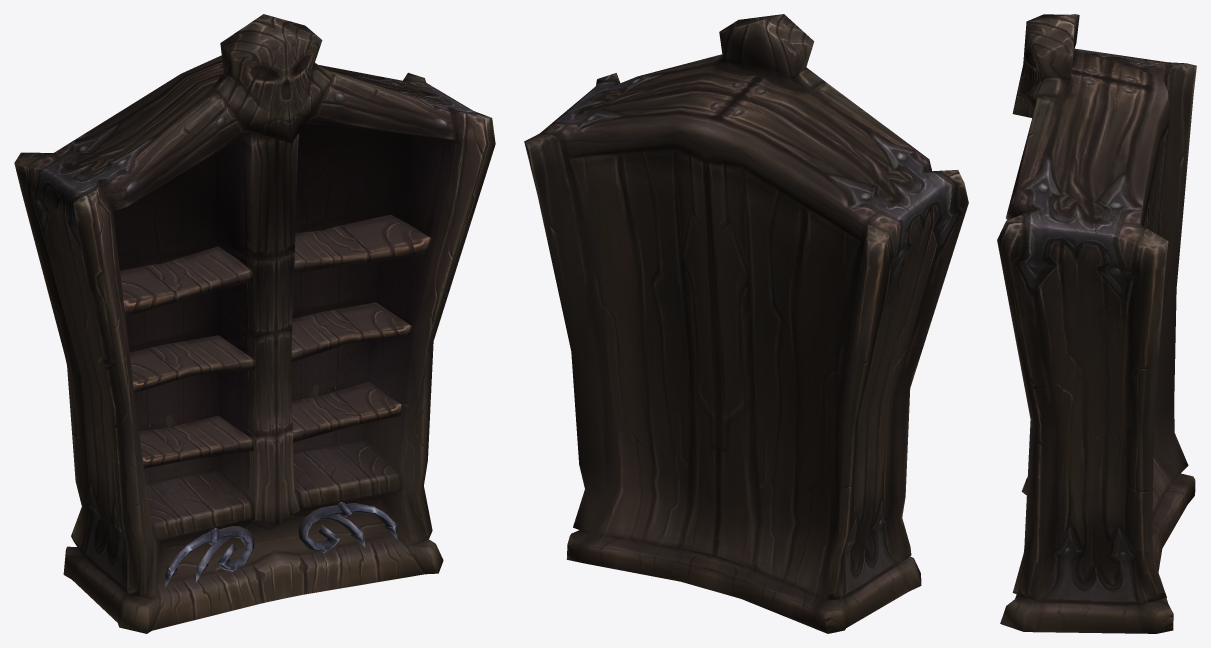
Rendered from bookdesk.fbx.
3 views of the same model, side by side, from view 1: azimuth 30°, elevation 25°; view 2: azimuth 150°, elevation 25°; view 3: azimuth 270°, elevation 25° (orthographic). The views are drawn at different scales.
Parts seen in each view (by area): view 1: Box031, table; view 2: Box031; view 3: Box031.
Part boxes in pixels (left/top/right/bottom): Box031: left=14, top=14, right=495, bottom=633; table: left=165, top=502, right=397, bottom=587; Box031: left=524, top=14, right=968, bottom=633; Box031: left=997, top=14, right=1196, bottom=633.
Size of the model in its own units: 481 by 639 by 211.
